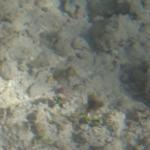dead: (1, 3, 145, 147)
